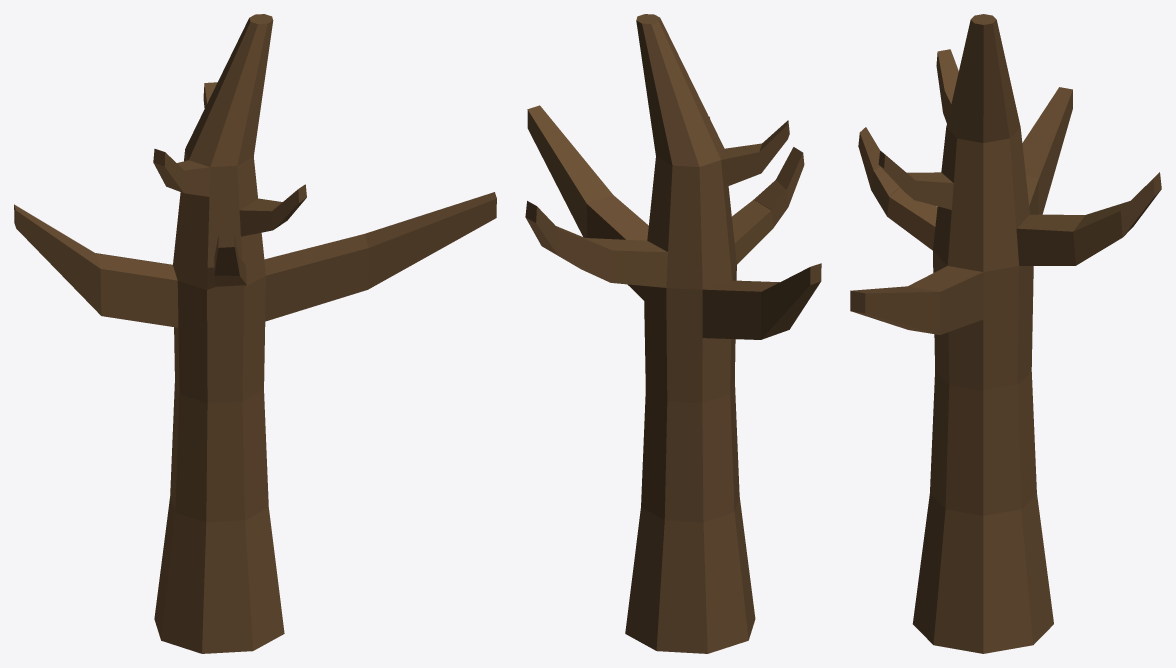
File: TreeTrunk.fbx
The picture shows the model from 3 angles, left to right: view 1: azimuth 30°, elevation 25°; view 2: azimuth 150°, elevation 25°; view 3: azimuth 270°, elevation 25°; orthographic projection. The views are drawn at different scales.
Visible parts, largest first — view 1: Trunk; view 2: Trunk; view 3: Trunk.
Boxes of the visible parts, box(x1,y1,x2,y2) form: Trunk: box(14, 14, 496, 653); Trunk: box(525, 14, 821, 653); Trunk: box(850, 14, 1161, 653).
Bounding box in the file's own units: 291 × 429 × 193.
